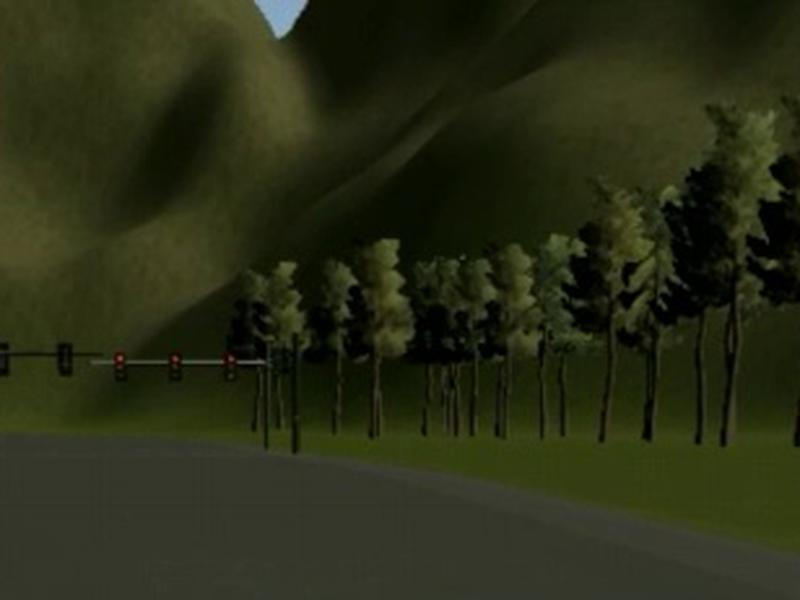Red: (166, 352, 184, 384), (114, 350, 129, 386), (223, 353, 239, 384)
